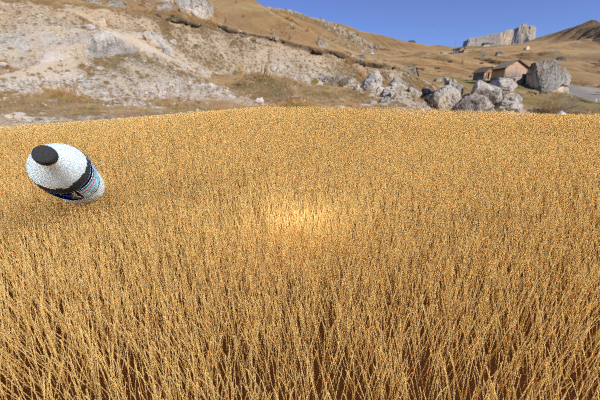Plastic Bottle: (330, 217, 600, 377), (26, 143, 104, 205), (183, 115, 205, 135)
